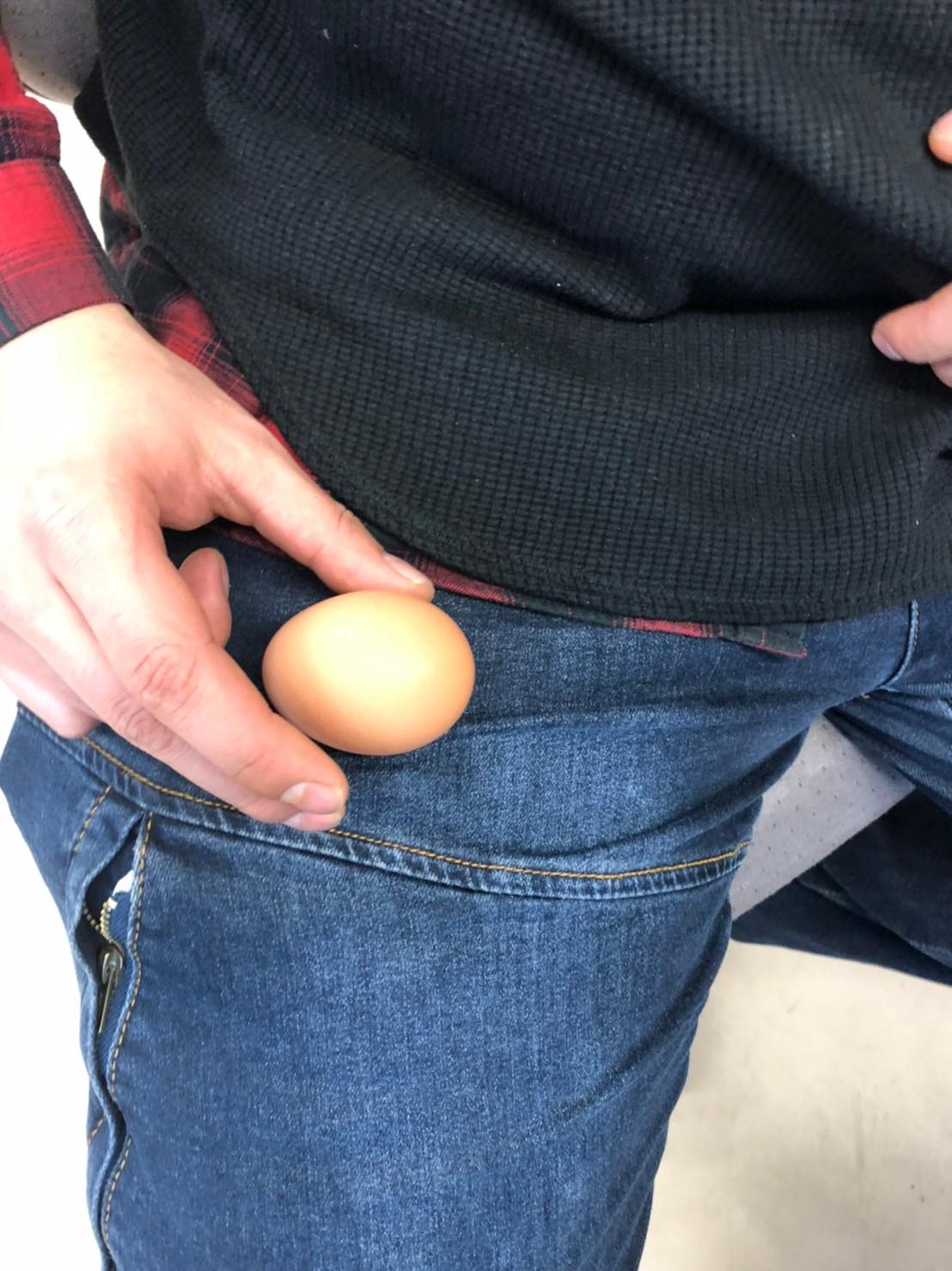egg: (256, 589, 476, 759)
